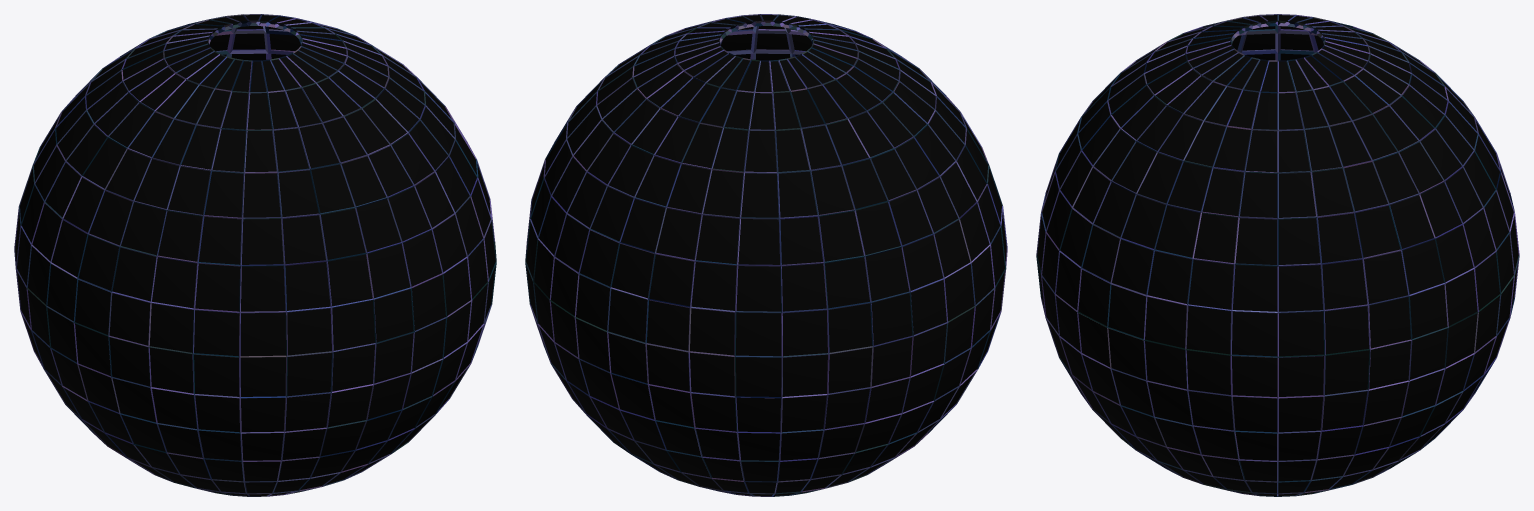
Rendered from BigDome.fbx.
The picture shows the model from 3 angles, left to right: view 1: azimuth 30°, elevation 25°; view 2: azimuth 150°, elevation 25°; view 3: azimuth 270°, elevation 25°; orthographic projection.
Parts seen in each view (by area): view 1: Sphere; view 2: Sphere; view 3: Sphere.
Part boxes in pixels (x1,y1,x2,y2): Sphere: (14, 14, 496, 496); Sphere: (525, 14, 1007, 496); Sphere: (1036, 14, 1519, 496).
Size of the model in its own units: 1727 by 1693 by 1727.
